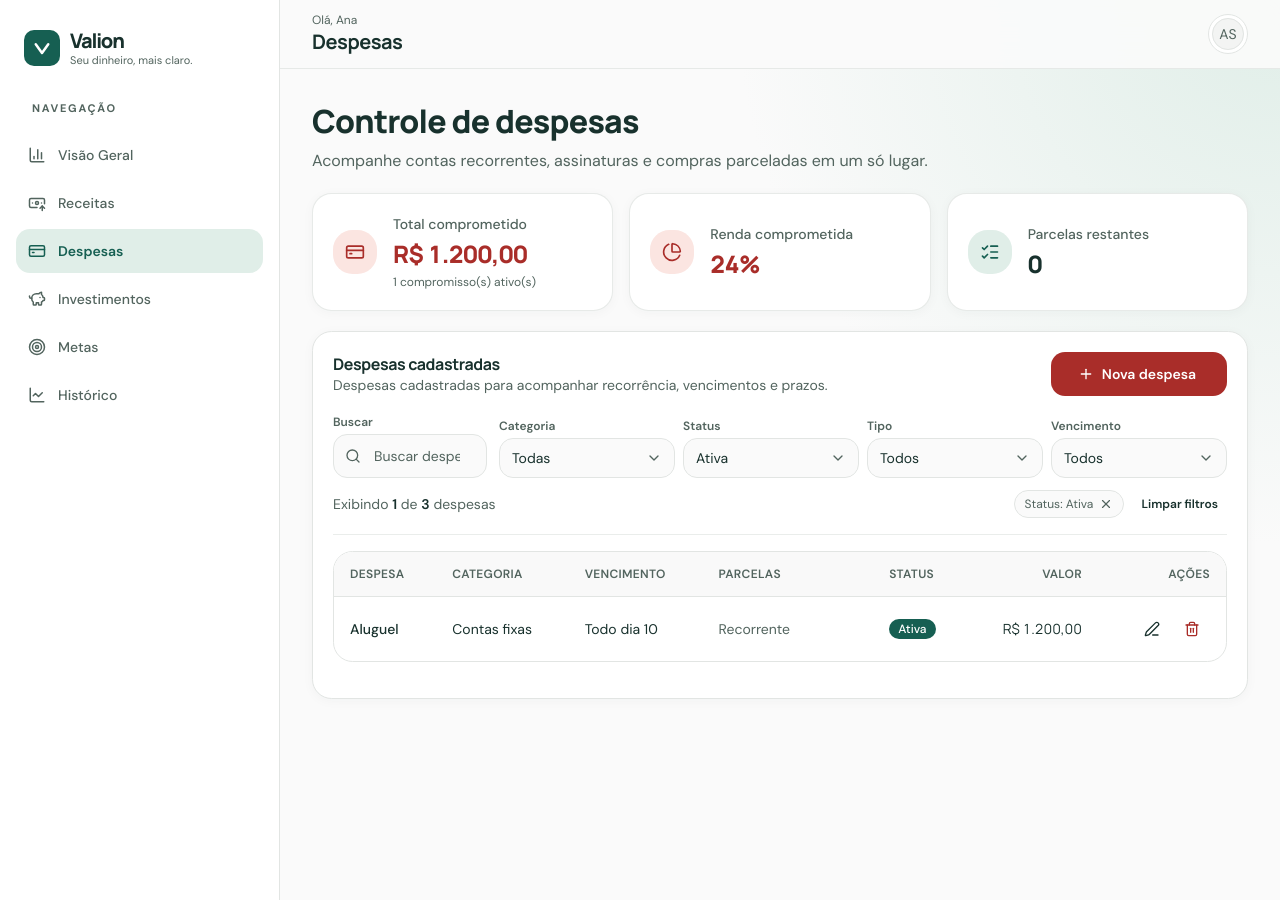
Test: FinanceDashboard › defaults expenses filter to active status and shows others when filter changes
Check: the text "Aluguel" is shown, box [350,620,399,638]
Check: the text "Assinatura pausada" is not shown
Click the dropdown named "Status" at [771, 458], box [683,438,859,478]
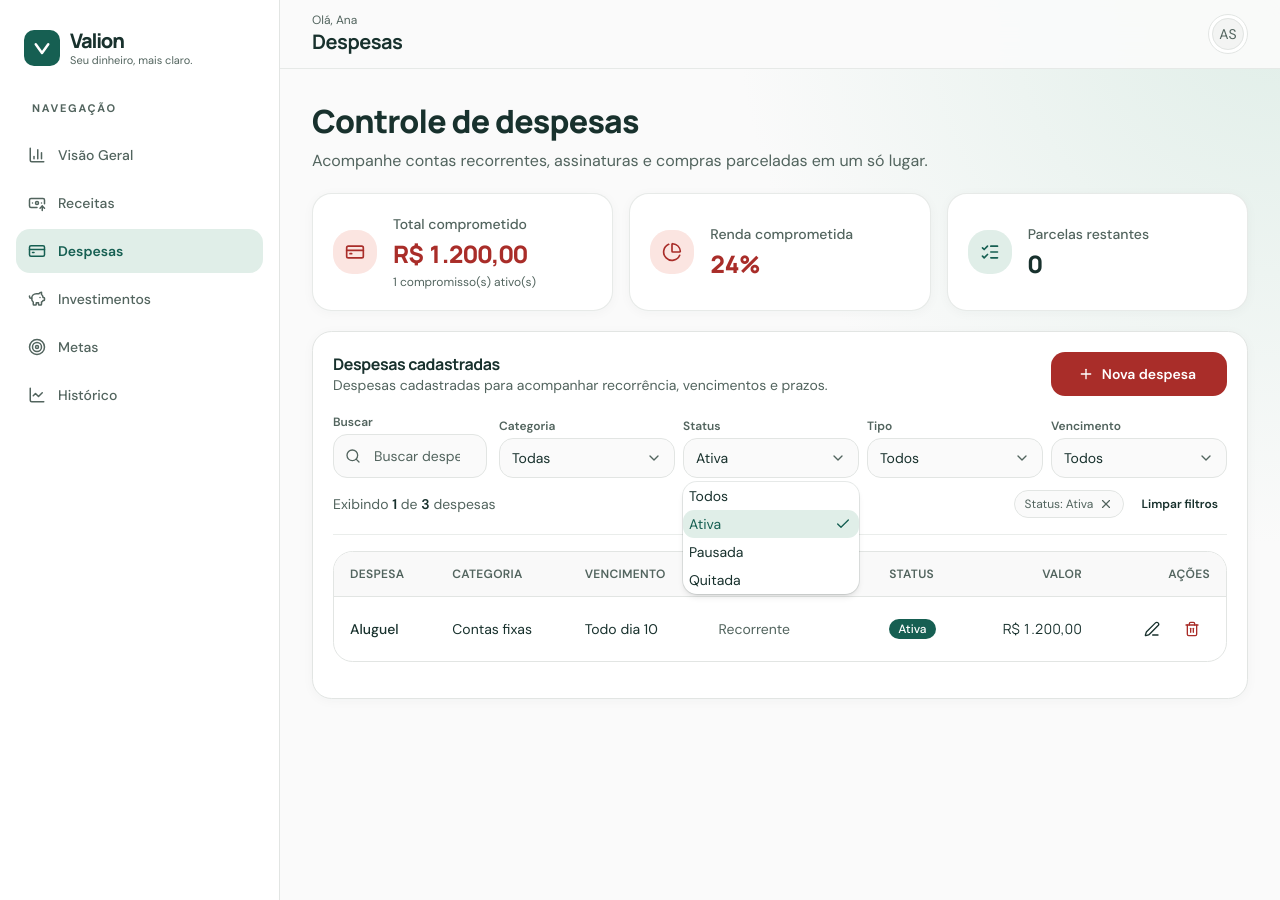
Check: the option "Todos" is shown
Click the option "Todos" at [708, 496], box [689,487,728,505]
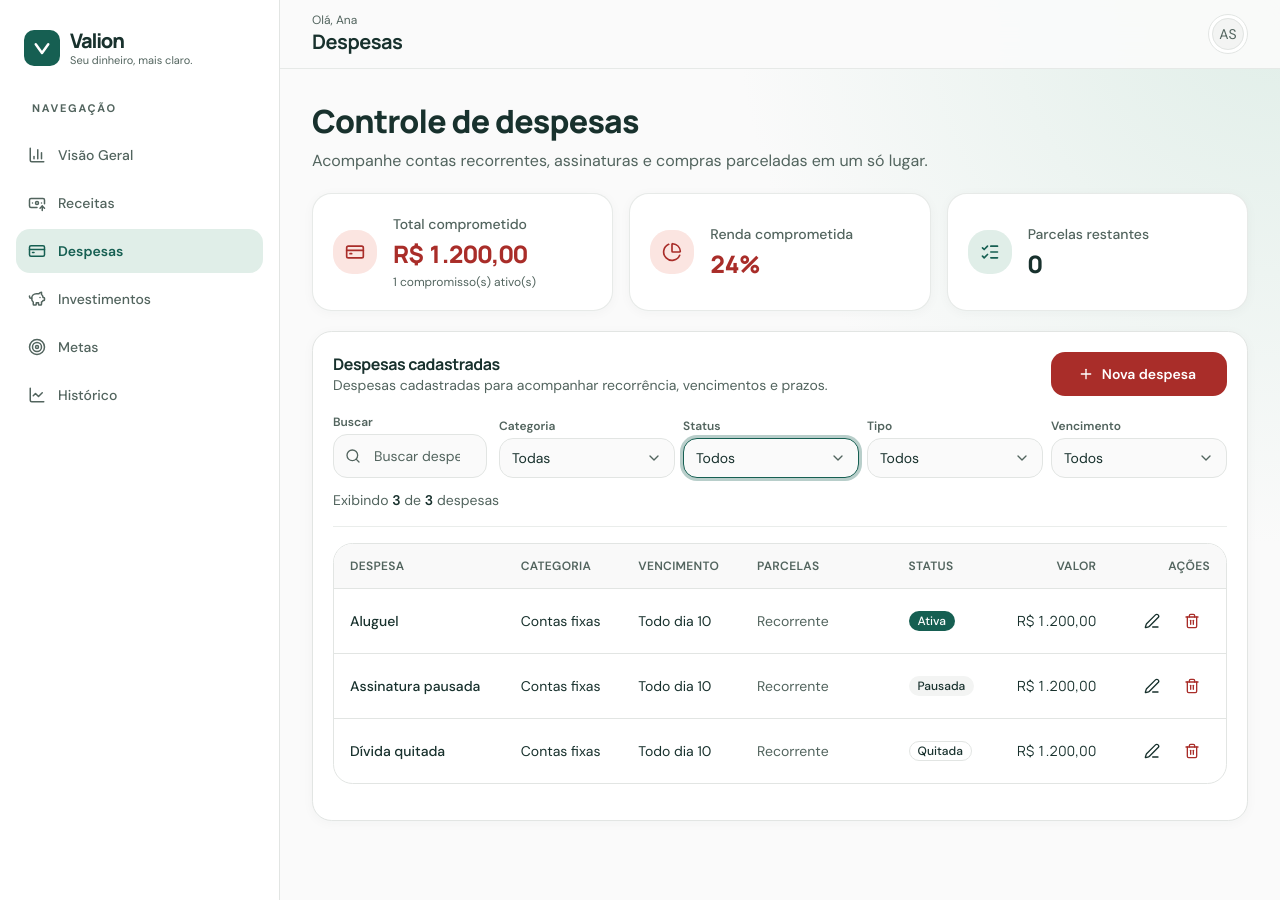
Check: the text "Aluguel" is shown, box [350,612,399,630]
Check: the text "Assinatura pausada" is shown, box [350,676,489,696]
Check: the text "Dívida quitada" is shown, box [350,742,445,760]
